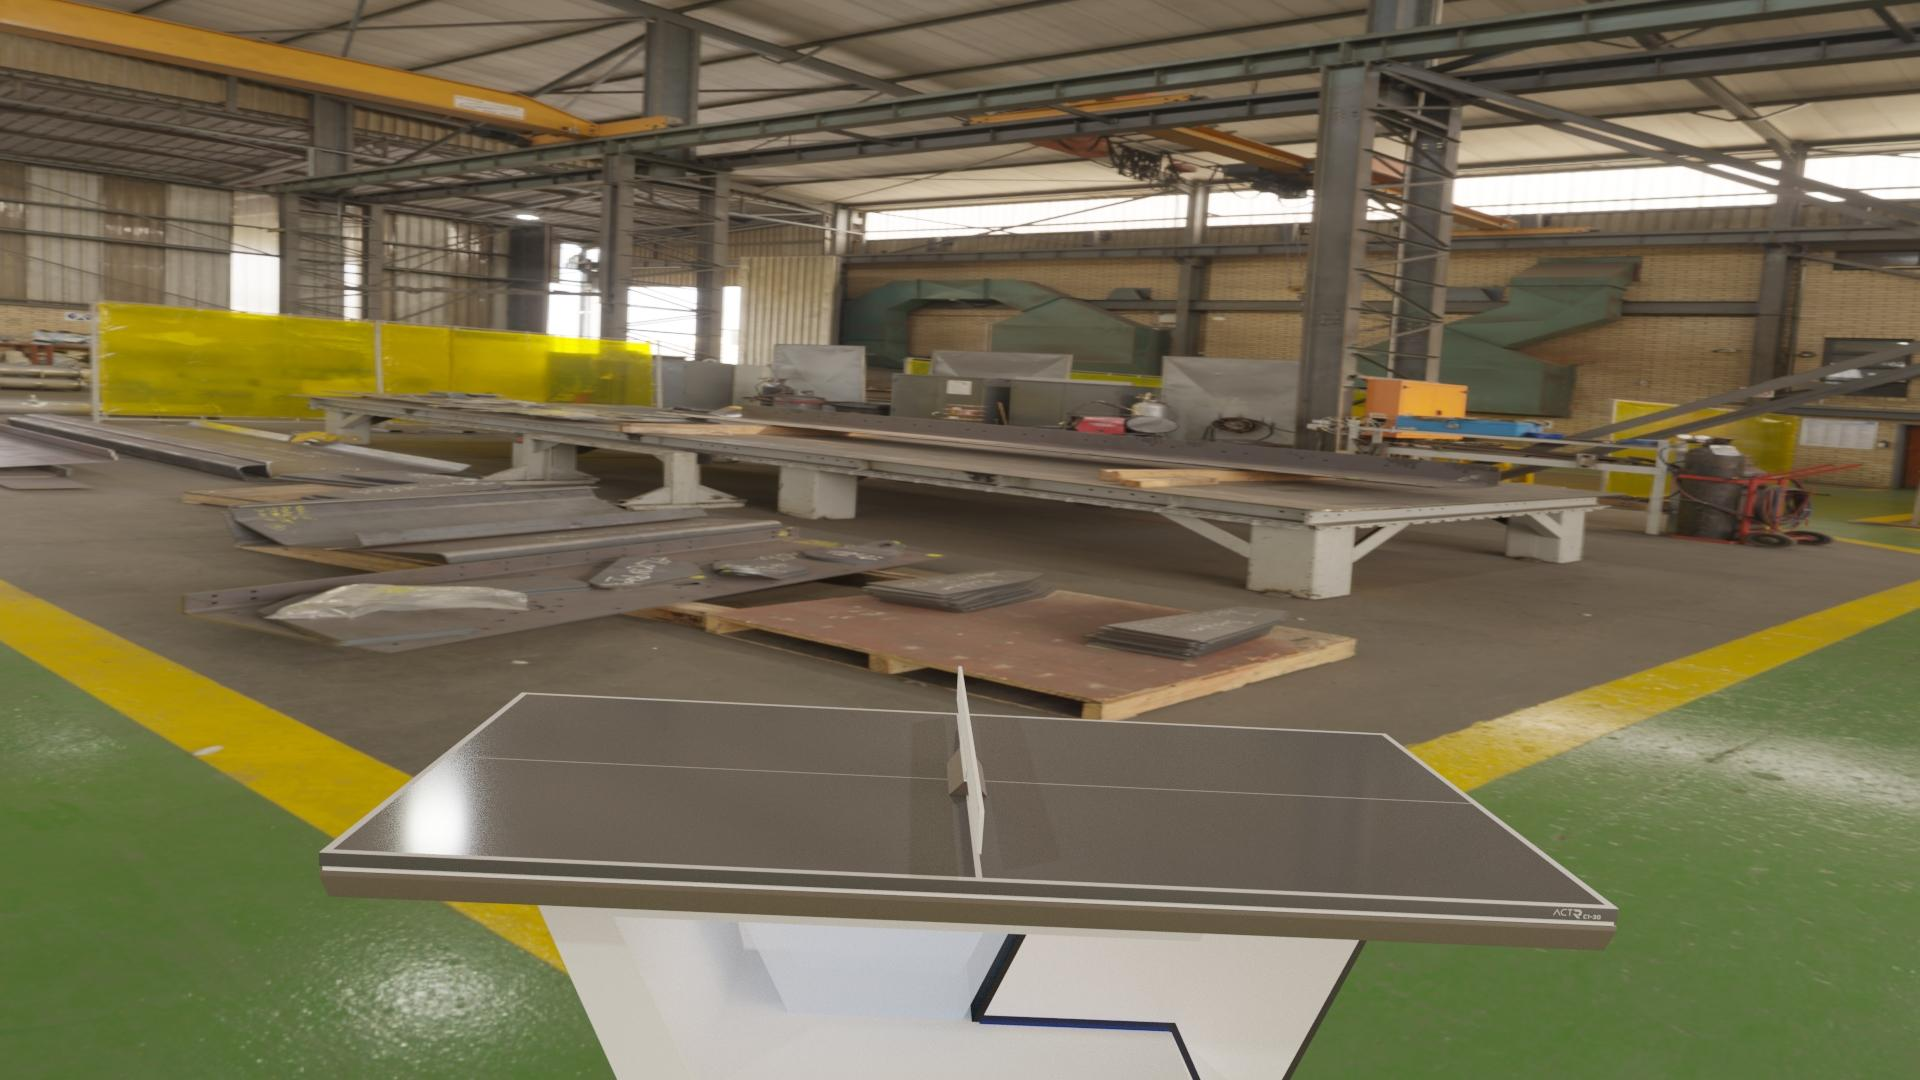table: (332, 694, 1605, 905)
